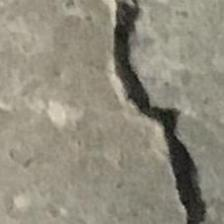Crack: (83, 1, 210, 224)
